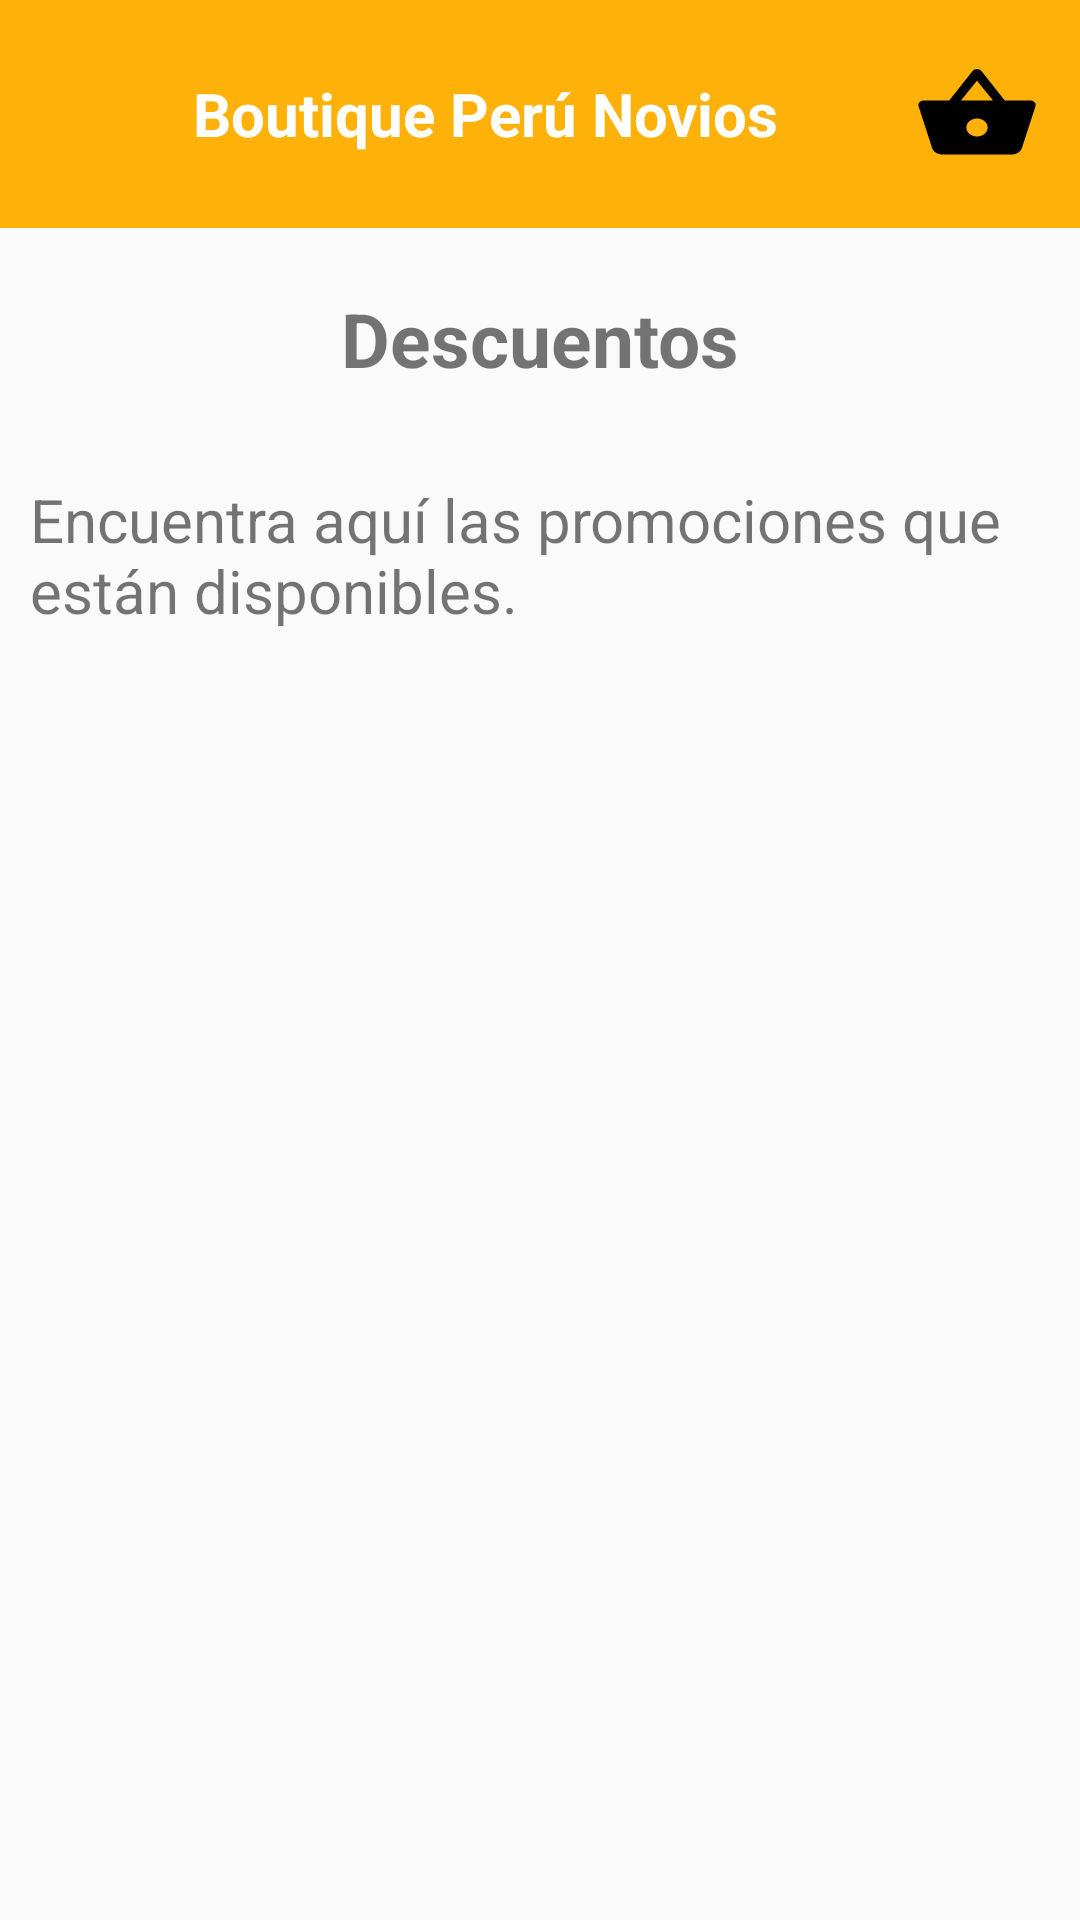

Icon bounding boxes for this 1080px x 1920px phone screenshot, format (x1, y1, x2, y2):
shopping basket: (918, 69, 1036, 155)
